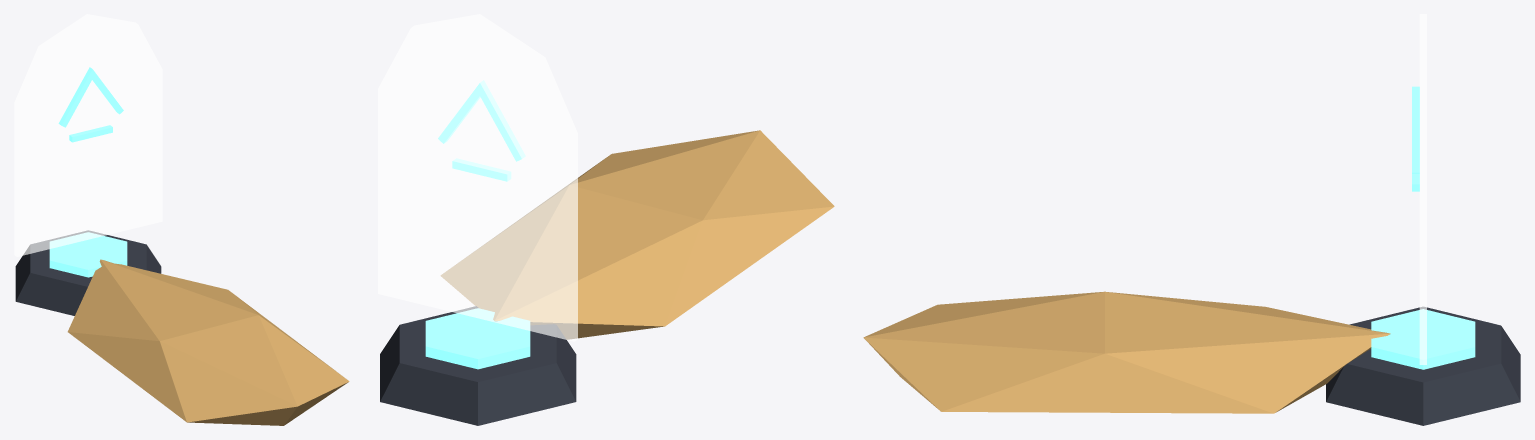
File: Prop_GraveMarker_C.fbx
3 renders of one model, left to right at view 1: azimuth 30°, elevation 25°; view 2: azimuth 150°, elevation 25°; view 3: azimuth 270°, elevation 25°, orthographic. The views are drawn at different scales.
Visible parts, largest first — view 1: Prop_GraveMarker_C_Body, Prop_GraveMarker_C_Hologram; view 2: Prop_GraveMarker_C_Body, Prop_GraveMarker_C_Hologram; view 3: Prop_GraveMarker_C_Body, Prop_GraveMarker_C_Hologram.
Boxes of the visible parts, box(x1,y1,x2,y2) form: Prop_GraveMarker_C_Body: box(15, 230, 349, 425); Prop_GraveMarker_C_Hologram: box(14, 14, 162, 256); Prop_GraveMarker_C_Body: box(380, 130, 834, 425); Prop_GraveMarker_C_Hologram: box(378, 14, 577, 341); Prop_GraveMarker_C_Body: box(863, 291, 1520, 425); Prop_GraveMarker_C_Hologram: box(1412, 14, 1426, 364).
Bounding box in the file's own units: 0.6884 × 1.06 × 1.75.
